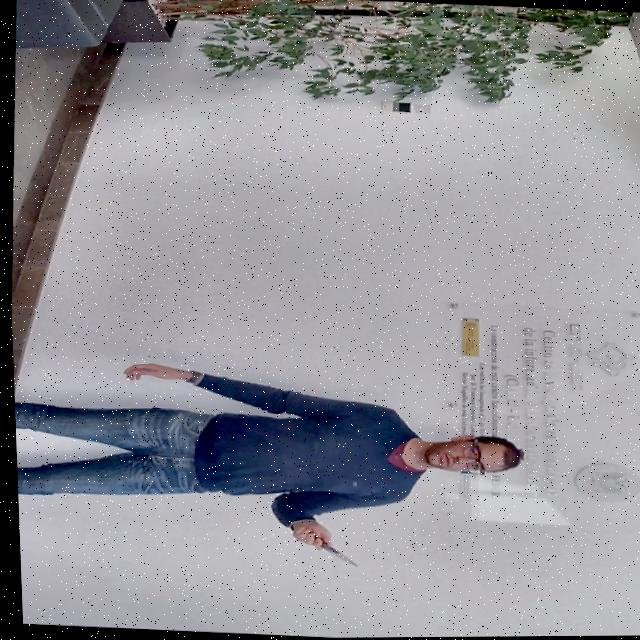knife: (314, 543, 360, 572)
